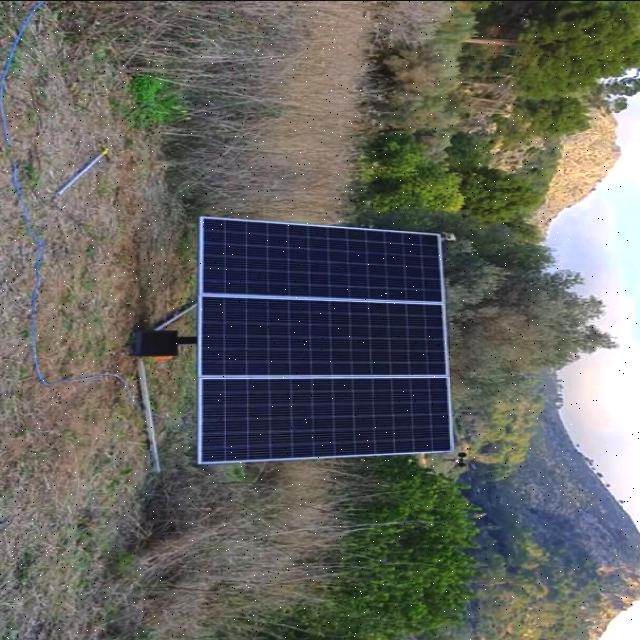Normal Solar Panel: (197, 217, 453, 460)
